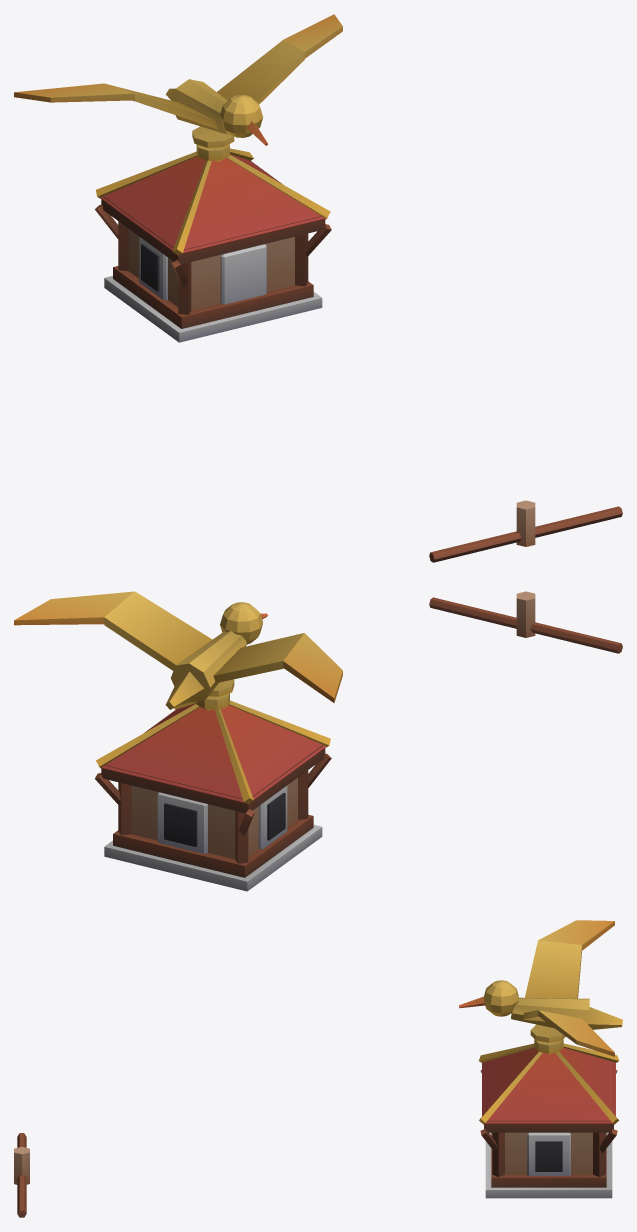
Rendered from standard-skill.glb.
The picture shows the model from 3 angles, top to bottom: view 1: azimuth 30°, elevation 25°; view 2: azimuth 150°, elevation 25°; view 3: azimuth 270°, elevation 25°; orthographic projection. The views are drawn at different scales.
Visible parts, largest first — view 1: skill; view 2: skill; view 3: skill.
Part boxes in pixels (x1,y1,x2,y2): skill: (14, 14, 622, 562); skill: (14, 591, 622, 891); skill: (14, 920, 622, 1217).
Size of the model in its own units: 3.4 by 2.49 by 6.64.
